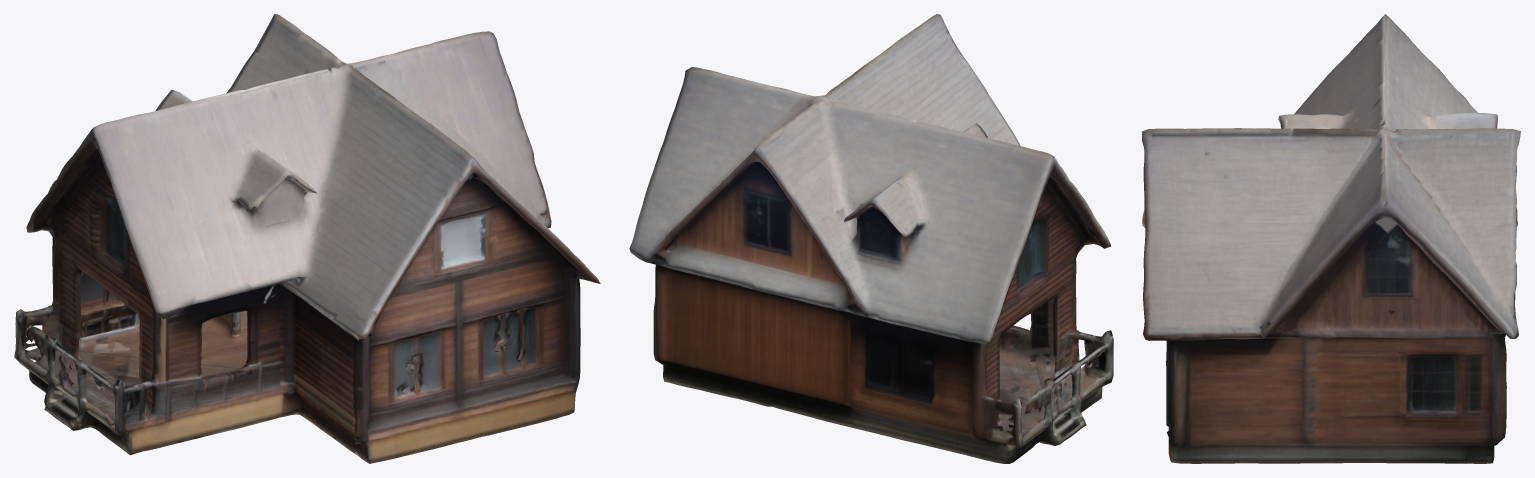
File: wood_house_1020105150_refine.glb
The picture shows the model from 3 angles, left to right: view 1: azimuth 30°, elevation 25°; view 2: azimuth 150°, elevation 25°; view 3: azimuth 270°, elevation 25°; orthographic projection. The views are drawn at different scales.
Bounding box in the file's own units: 2 × 1.32 × 1.61.
1 material, 1 textured.
